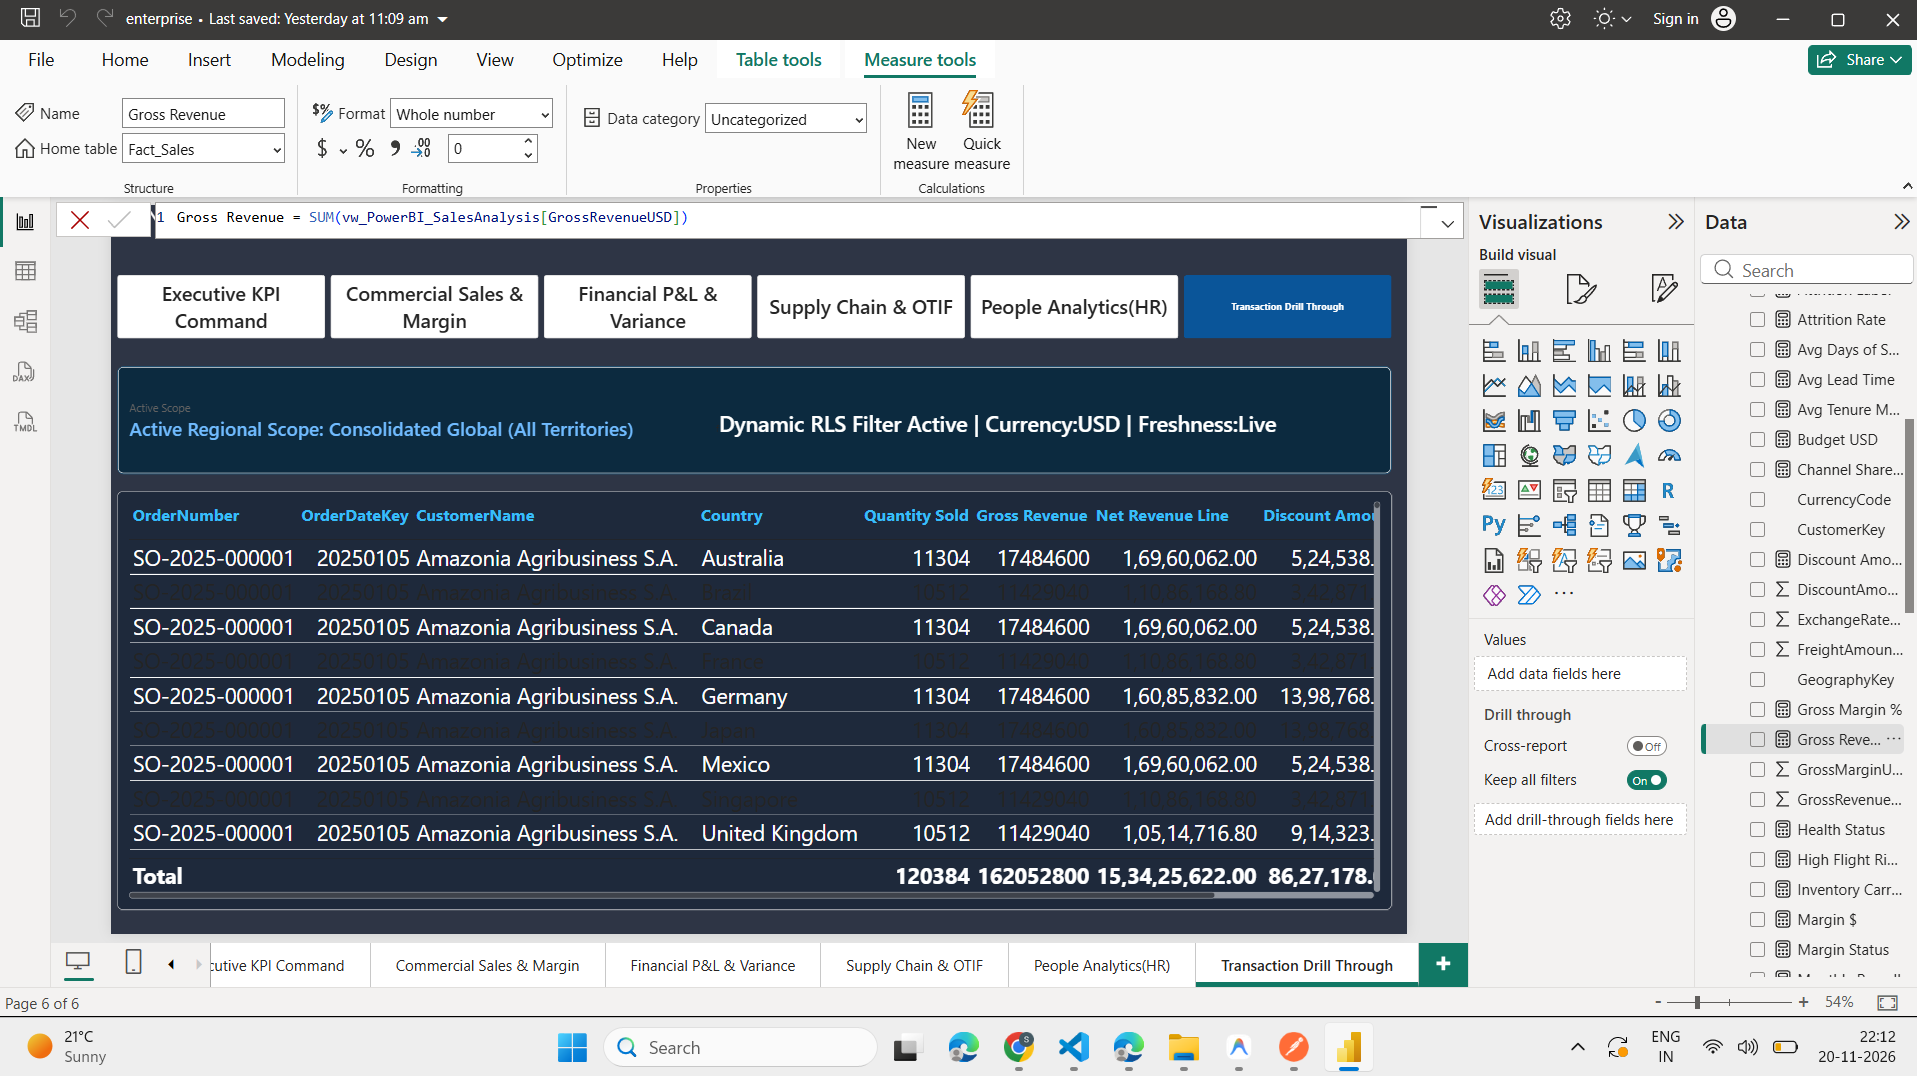

This screenshot's page, from the dashboard's own definition file:
{"tool":"powerbi","page":{"name":"Transaction Drill Through","canvas":[1920,1080],"ordinal":5},"visuals":[{"type":"textbox","box":[10,0,626,80],"z":0},{"type":"pageNavigator","box":[10,104,1888,94],"z":1000},{"type":"cardVisual","fields":{"Data":["Fact_Sales.Active Scope"]},"box":[10,238,1888,160],"z":2000},{"type":"textbox","box":[896,302,1002,54],"z":3000},{"type":"tableEx","fields":{"Values":["Fact_Sales.OrderNumber","Fact_Sales.OrderDateKey","Dim_Customer.CustomerName","Dim_Geography.Country","Fact_Sales.Quantity Sold","Fact_Sales.Gross Revenue","Fact_Sales.Net Revenue Line","Fact_Sales.Discount Amount","Fact_Sales.Margin $"]},"box":[10,424,1888,620],"z":4000}]}

Visuals, with their boxes on the page's 1920x1080 design canvas (x1, y1, x2, y2). These are canvas units, not pixel positions in the 1917x1076 screenshot, which may show the page scaled, cropped or inside an application window:
textbox: box=[10, 0, 636, 80]
pageNavigator: box=[10, 104, 1898, 198]
cardVisual - Fact_Sales.Active Scope: box=[10, 238, 1898, 398]
textbox: box=[896, 302, 1898, 356]
tableEx - Fact_Sales.OrderNumber x Fact_Sales.OrderDateKey: box=[10, 424, 1898, 1044]
